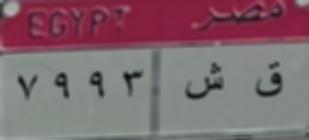3: (120, 67, 145, 102)
7: (15, 68, 39, 105)
9: (87, 66, 112, 106), (51, 67, 74, 107)
qaaf: (251, 55, 285, 102)
sheen: (184, 57, 227, 106)
